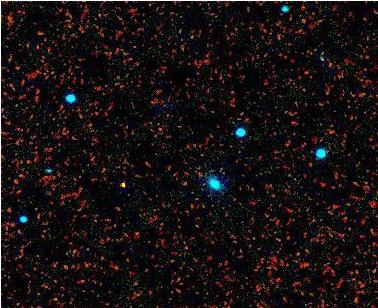star: (104, 166, 134, 196)
